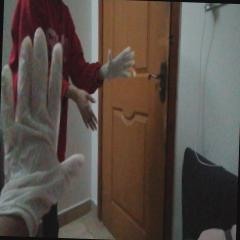gloved: (0, 26, 67, 219), (102, 45, 136, 83)
not-gloved: (71, 90, 99, 134)
